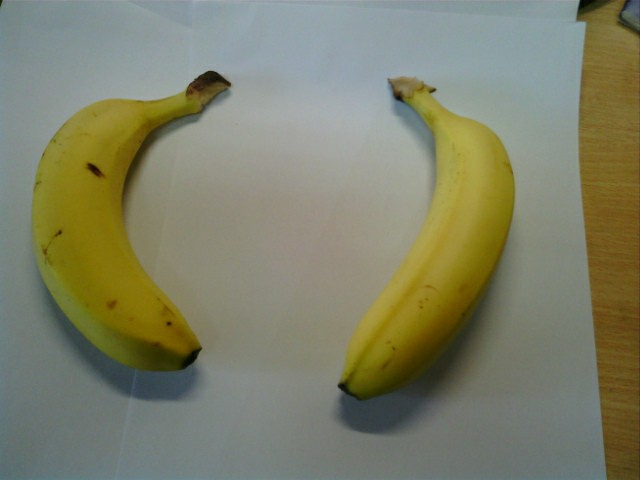fresh_banana: (340, 79, 515, 395)
normal_banana: (35, 84, 207, 369)
